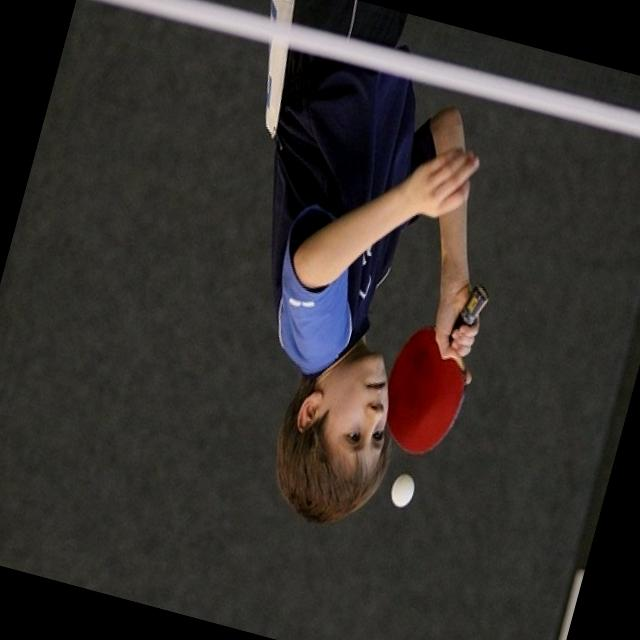TT Net: (100, 0, 640, 136)
TT Racket: (367, 266, 494, 465)
